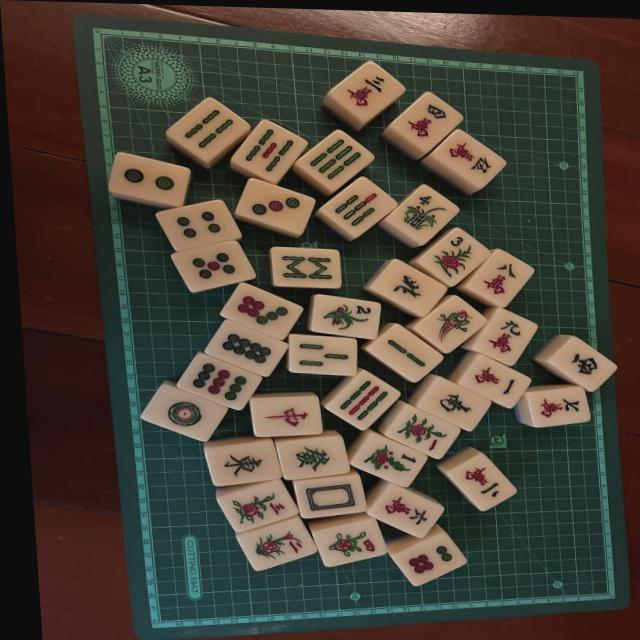bai: (295, 472, 368, 521)
east: (208, 439, 282, 487)
f1: (363, 441, 423, 483)
f2: (311, 296, 383, 339)
f3: (418, 227, 490, 288)
f4: (400, 185, 455, 235)
fa: (279, 435, 350, 481)
ff1: (383, 404, 459, 462)
ff2: (236, 515, 318, 573)
ff3: (220, 479, 297, 533)
ff4: (314, 515, 388, 568)
m1: (456, 353, 531, 411)
m2: (449, 453, 520, 515)
m3: (326, 59, 408, 123)
m4: (393, 89, 467, 153)
m5: (432, 128, 507, 189)
m6: (379, 494, 436, 529)
m7: (526, 388, 591, 428)
m8: (466, 249, 536, 311)
m9: (470, 307, 538, 368)
north: (369, 259, 452, 319)
s1: (431, 302, 476, 345)
s2: (368, 325, 447, 386)
s3: (289, 339, 359, 376)
s4: (177, 103, 238, 152)
s5: (233, 118, 311, 185)
s6: (296, 128, 375, 192)
s7: (321, 175, 401, 239)
s8: (274, 251, 342, 287)
s9: (324, 368, 404, 434)
south: (424, 384, 484, 424)
t1: (138, 382, 229, 445)
t2: (107, 151, 194, 208)
t3: (234, 179, 318, 239)
t4: (155, 199, 242, 254)
t5: (169, 239, 254, 296)
t6: (391, 529, 468, 589)
t7: (221, 280, 307, 342)
t8: (201, 317, 287, 378)
t9: (177, 350, 261, 411)
west: (551, 348, 613, 384)
zhong: (255, 399, 318, 434)
